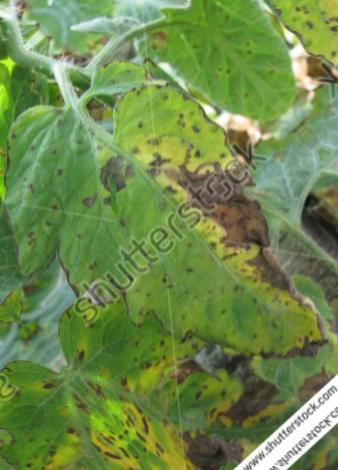Tomato leaf bacterial spot: (0, 8, 338, 470), (35, 234, 298, 470)
